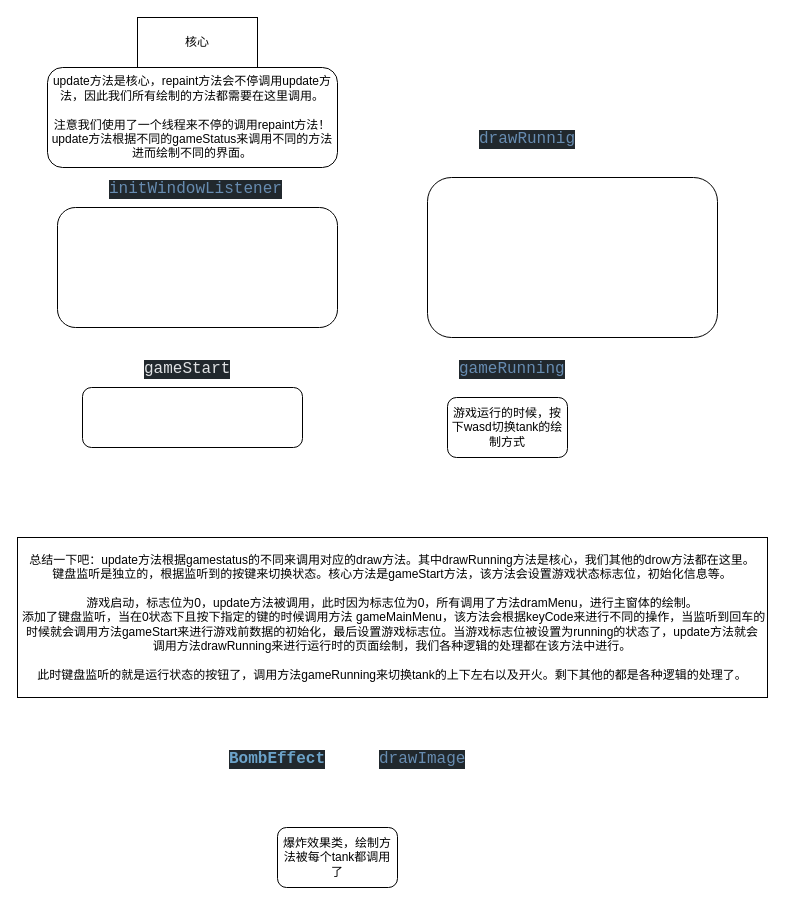
This 785x905 diagram has some shape labels left out. The shapes that lost their labels are listed below. From the top down, each one's centre as x and y in pixels, then its label:
At point (197, 267): "该方法添加了监听器 ，监听器根据游戏状态以及按键的指向会调用不同的方法，例如当状态为开始状态的时候会调用gameMenu方法来调整菜单的位置标志。".
At point (572, 257): "该方法是核心，会被update方法不停的调用（在游戏运行的状态下，此时绘制的东西都应该在这里进行绘制）".
At point (192, 417): "该方法就是进行游戏开始前的数据的初始化，设置游戏状态的标志位".
